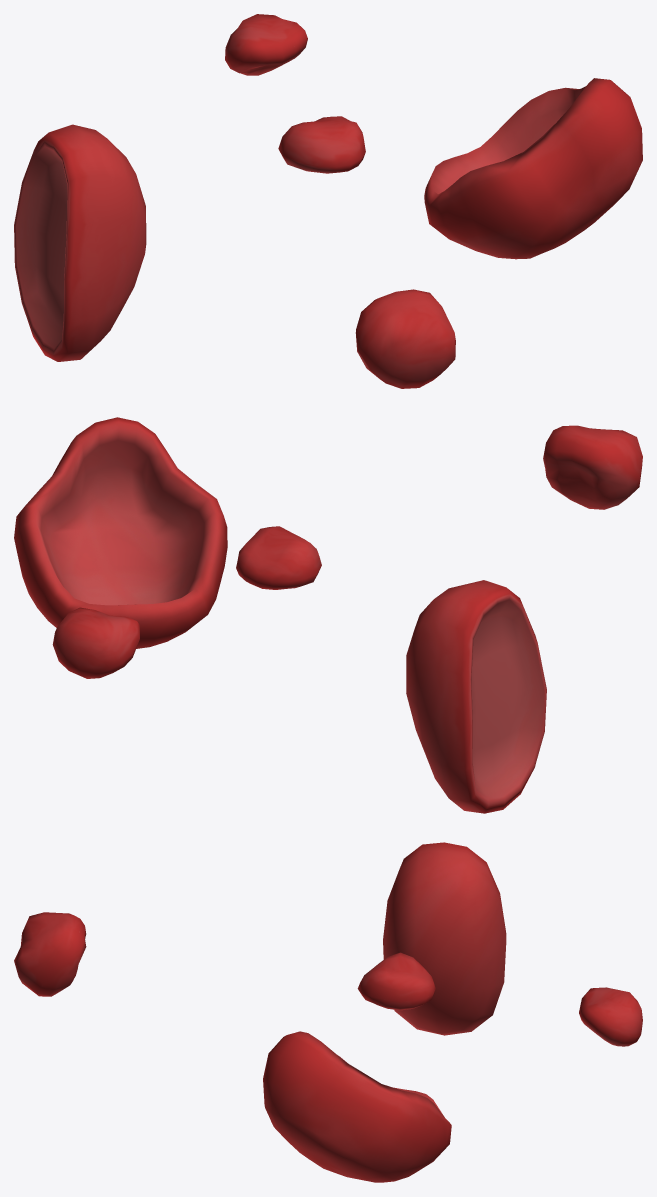
Rendered from Proteinas.fbx.
3 renders of one model, top to bottom at view 1: azimuth 30°, elevation 25°; view 2: azimuth 150°, elevation 25°; view 3: azimuth 270°, elevation 25°, orthographic. The views are drawn at different scales.
Parts seen in each view (by area): view 1: pCube2, polySurface385, pCube5, pCube3, pCube4; view 2: pCube2, polySurface385, pCube5, pCube4, pCube3; view 3: pCube2, polySurface385, pCube5, pCube3, pCube4.
Part boxes in pixels (box(x1,y1,x2,y2)): pCube2: box(424, 78, 642, 259); polySurface385: box(14, 124, 146, 361); pCube5: box(355, 289, 455, 388); pCube3: box(278, 116, 365, 173); pCube4: box(225, 14, 307, 75); pCube2: box(14, 417, 227, 648); polySurface385: box(406, 580, 546, 813); pCube5: box(543, 425, 642, 509); pCube4: box(52, 607, 139, 678); pCube3: box(236, 526, 321, 589); pCube2: box(263, 1031, 451, 1182); polySurface385: box(383, 842, 506, 1035); pCube5: box(14, 912, 86, 996); pCube3: box(357, 952, 435, 1010); pCube4: box(579, 987, 642, 1046).
Bounding box in the file's own units: 7.07 × 2.76 × 8.21.
Materials: 5 (5 with a texture image).
